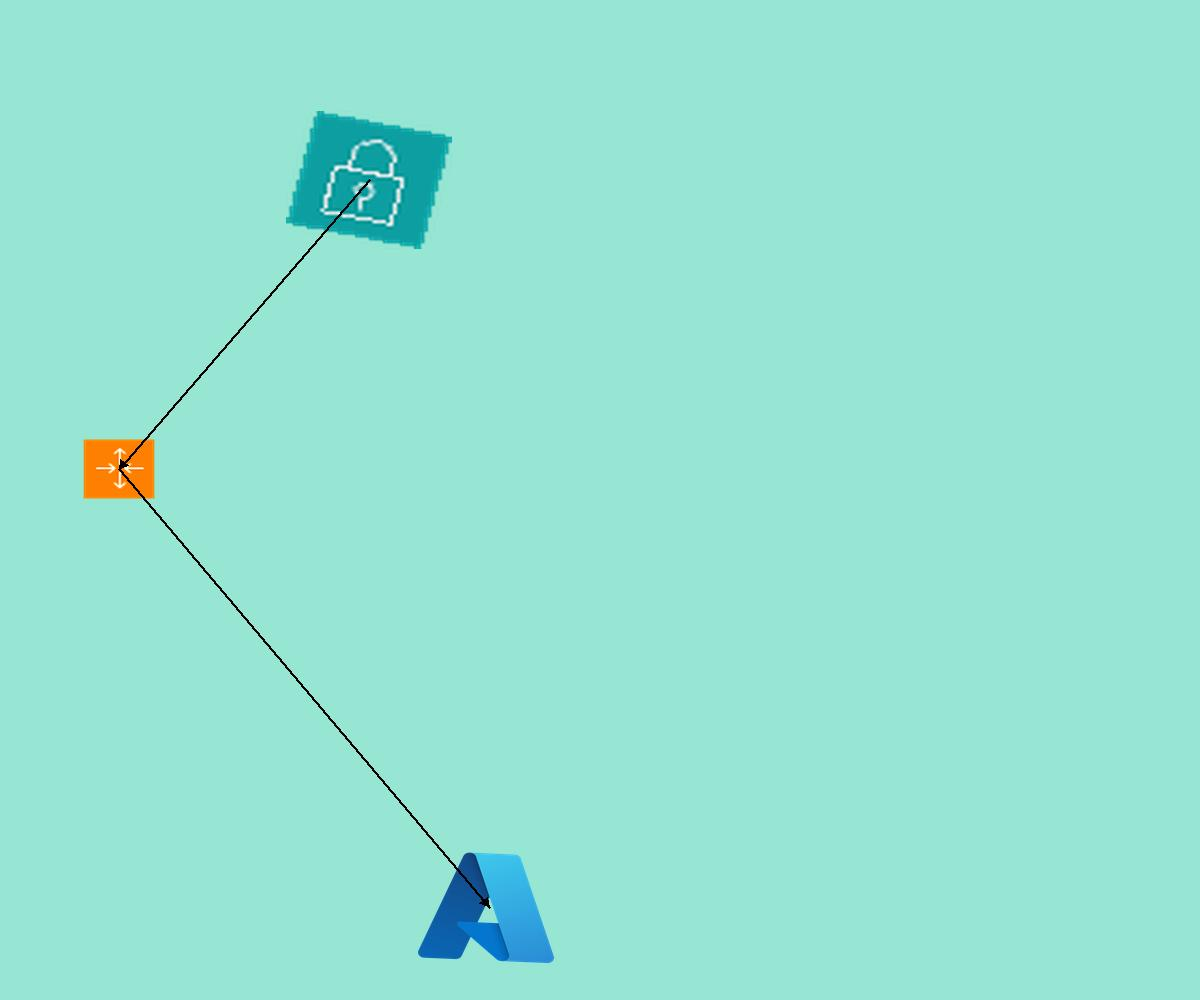AWS-Private-subnet: (286, 111, 452, 249)
AWS-Scaling-group: (82, 438, 156, 500)
Azure_services: (411, 842, 567, 972)
